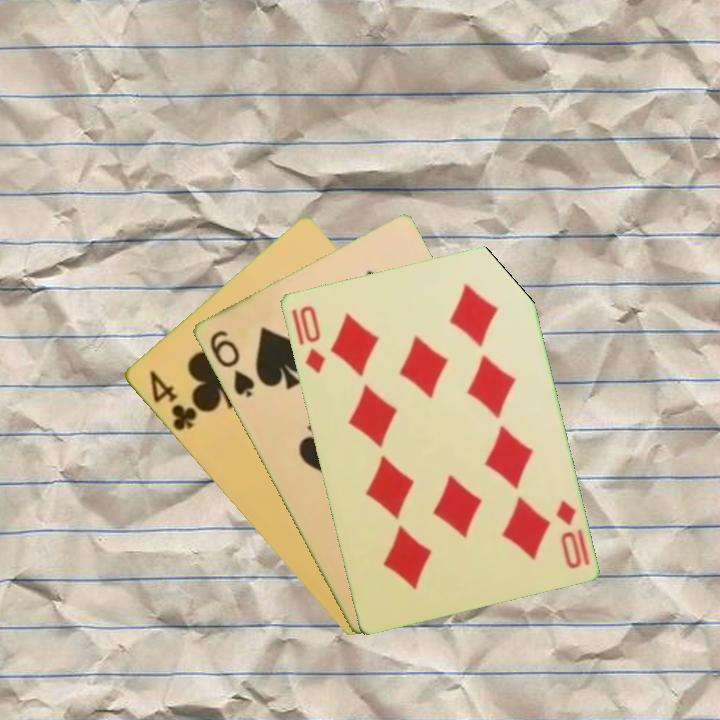10d: (551, 495, 584, 572), (295, 301, 328, 376)
4c: (145, 366, 200, 434)
6s: (205, 326, 258, 400)
